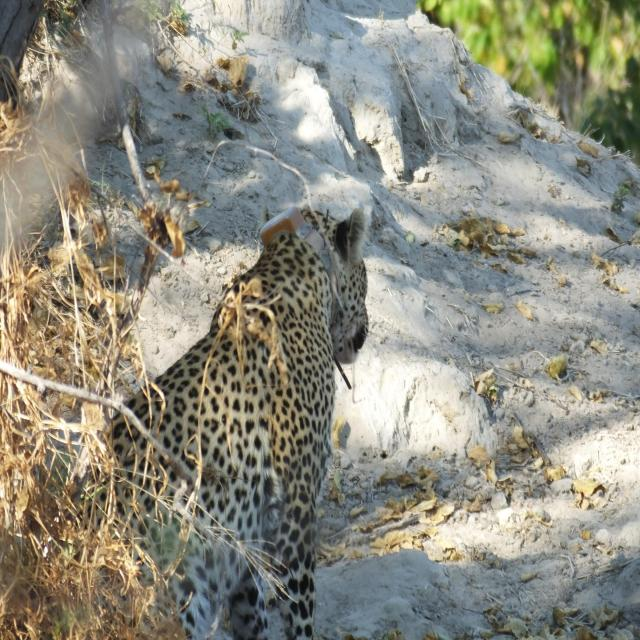Leopard: (59, 189, 385, 636)
